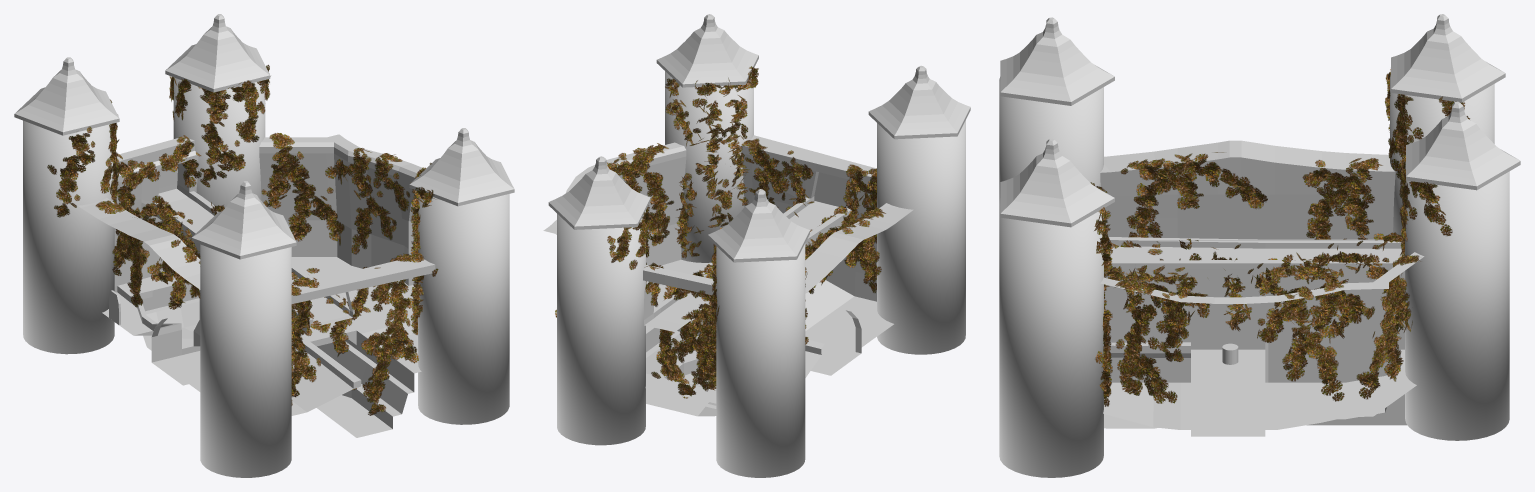
The model's file is Castle2.glb.
The picture shows the model from 3 angles, left to right: view 1: azimuth 30°, elevation 25°; view 2: azimuth 150°, elevation 25°; view 3: azimuth 270°, elevation 25°; orthographic projection. The views are drawn at different scales.
Visible parts, largest first — view 1: Plane -col, Cylinder.005-col, Cylinder.004-col, Cylinder.001-col, Cylinder.002-col, Circle.001, Circle.003, Circle.002, Circle; view 2: Plane -col, Cylinder.001-col, Cylinder.002-col, Cylinder.005-col, Cylinder.004-col, Circle.002, Circle.001, Circle.003, Circle; view 3: Plane -col, Cylinder.004-col, Cylinder.002-col, Plane, Cylinder.005-col, Circle.001, Circle, Circle.003, Circle.002, Cylinder.001-col.
Boxes of the visible parts, x1,y1,x2,y2 form: Plane -col: (78, 134, 435, 437); Cylinder.005-col: (200, 244, 291, 477); Cylinder.004-col: (418, 194, 509, 424); Cylinder.001-col: (23, 120, 114, 354); Cylinder.002-col: (173, 77, 265, 207); Circle.001: (191, 181, 296, 259); Circle.003: (14, 57, 119, 135); Circle.002: (165, 14, 270, 92); Circle: (409, 128, 514, 206); Plane -col: (543, 135, 913, 416); Cylinder.001-col: (716, 243, 805, 477); Cylinder.002-col: (557, 211, 645, 445); Cylinder.005-col: (877, 120, 965, 354); Cylinder.004-col: (665, 71, 753, 262); Circle.002: (548, 156, 650, 229); Circle.001: (868, 65, 970, 139); Circle.003: (708, 189, 809, 262); Circle: (656, 14, 758, 87); Plane -col: (1100, 140, 1424, 436); Cylinder.004-col: (999, 198, 1103, 477); Cylinder.002-col: (1405, 161, 1509, 440); Plane: (1104, 240, 1406, 425); Cylinder.005-col: (999, 77, 1103, 200); Circle.001: (1000, 17, 1114, 105); Circle: (1000, 138, 1114, 227); Circle.003: (1391, 14, 1505, 102); Circle.002: (1406, 101, 1520, 190); Cylinder.001-col: (1390, 74, 1494, 235).
Size of the model in its own units: 53.38 by 47.64 by 65.39.
1 material, 1 textured.
